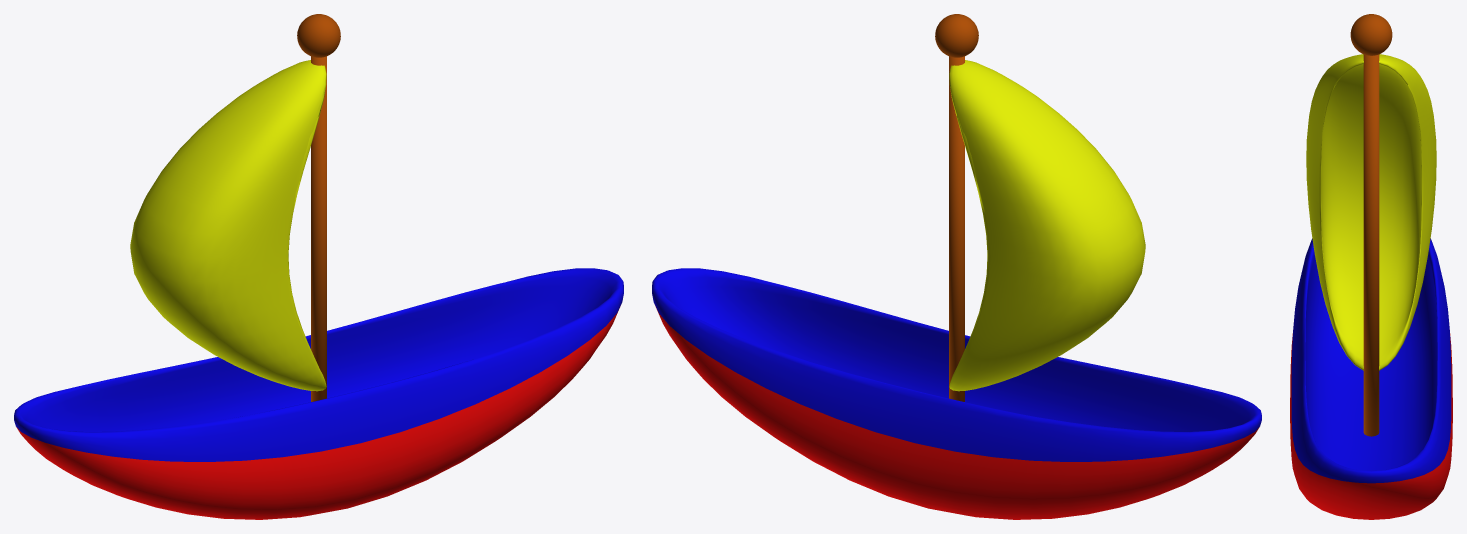
File: Barco.fbx
The picture shows the model from 3 angles, left to right: view 1: azimuth 30°, elevation 25°; view 2: azimuth 150°, elevation 25°; view 3: azimuth 270°, elevation 25°; orthographic projection. The views are drawn at different scales.
Visible parts, largest first — view 1: Base, Vela, Poste; view 2: Base, Vela, Poste; view 3: Base, Vela, Poste.
Boxes of the visible parts, x1,y1,x2,y2 form: Base: (14, 268, 623, 519); Vela: (130, 60, 326, 391); Poste: (297, 14, 340, 401); Base: (652, 268, 1261, 519); Vela: (949, 60, 1145, 391); Poste: (935, 14, 978, 401); Base: (1290, 238, 1452, 519); Vela: (1306, 54, 1436, 370); Poste: (1350, 14, 1392, 436).
Size of the model in its own units: 797 by 616 by 196.
